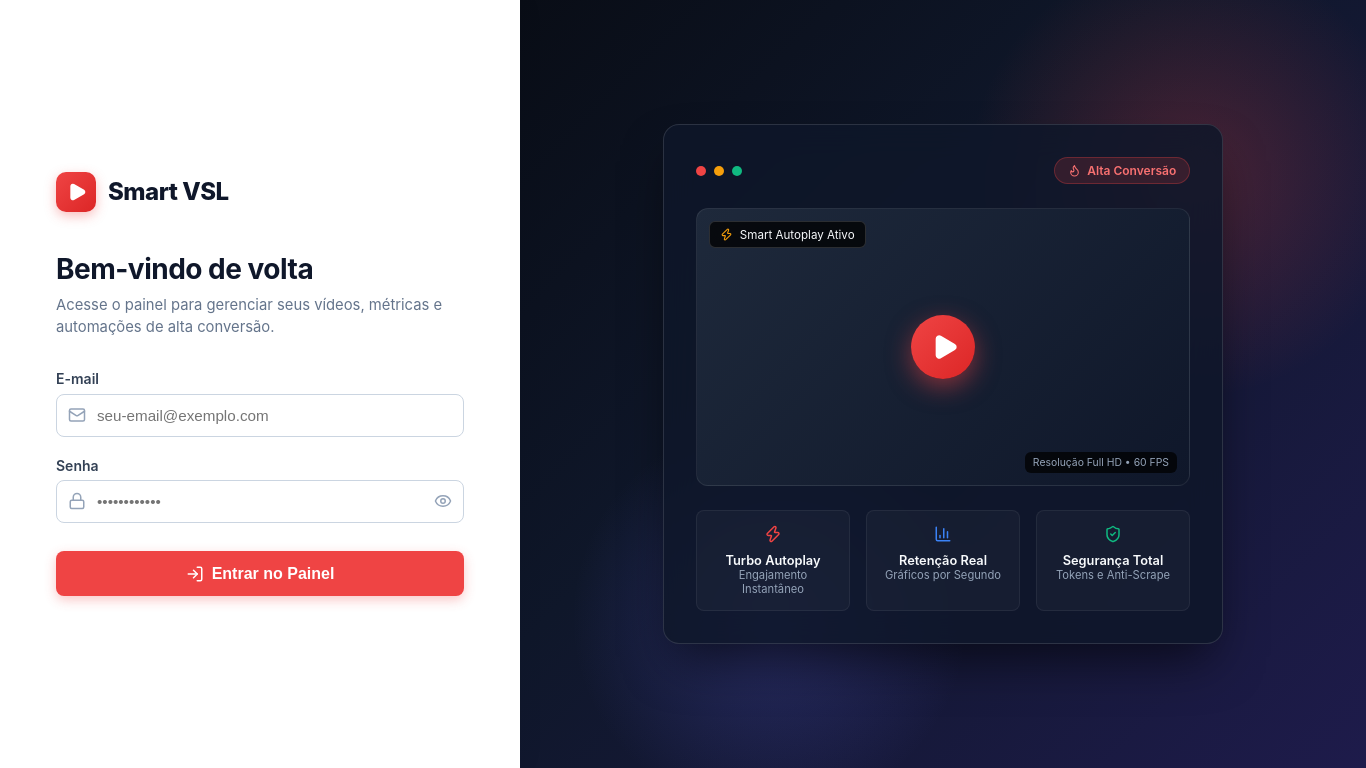
Test: LoginView Component › exibe mensagem de erro quando a API rejeita as credenciais
In the field with test id "login-email-input": (260,415) top-left (56, 394), bottom-right (464, 437), type "errado@vturb.com"
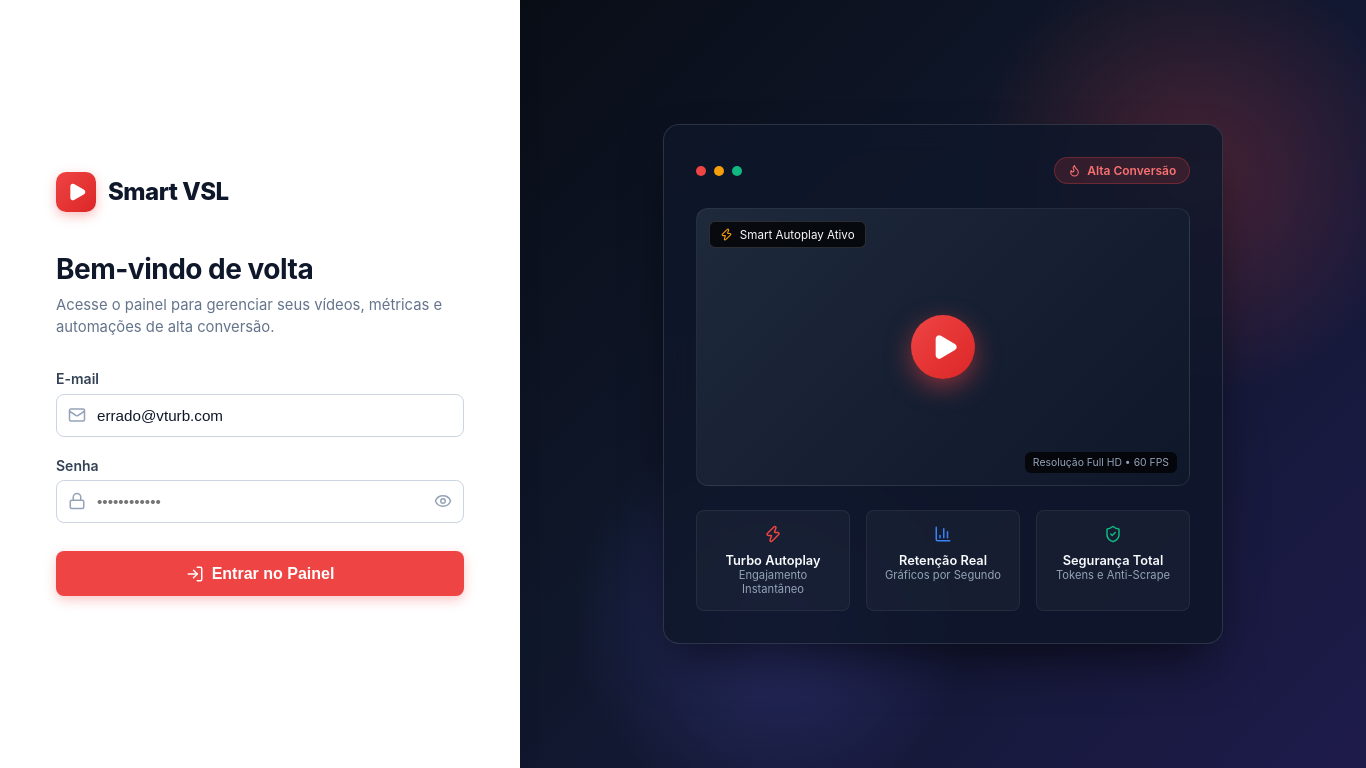
In the password field with test id "login-password-input": (260,502) top-left (56, 480), bottom-right (464, 523), type "senha123"
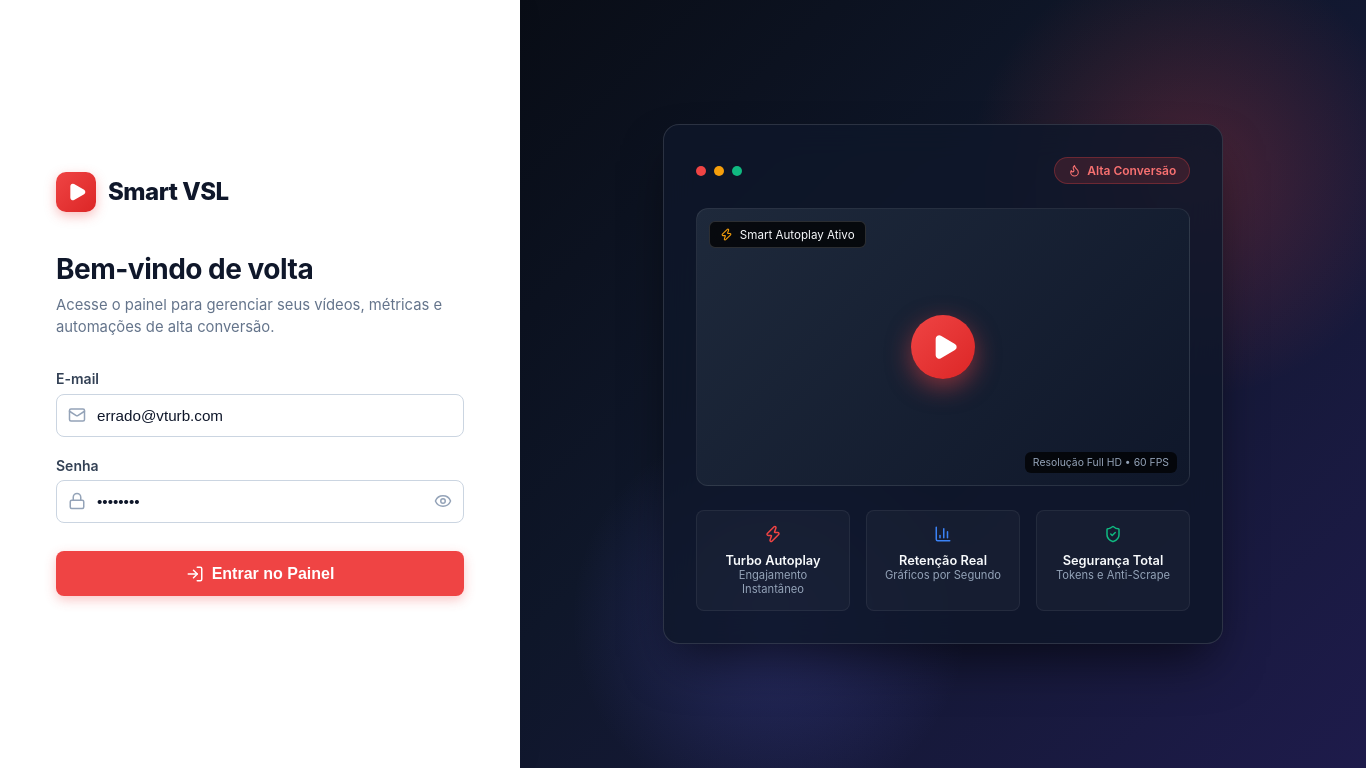
Click the button with test id "login-submit-btn": (260,574) top-left (56, 551), bottom-right (464, 596)
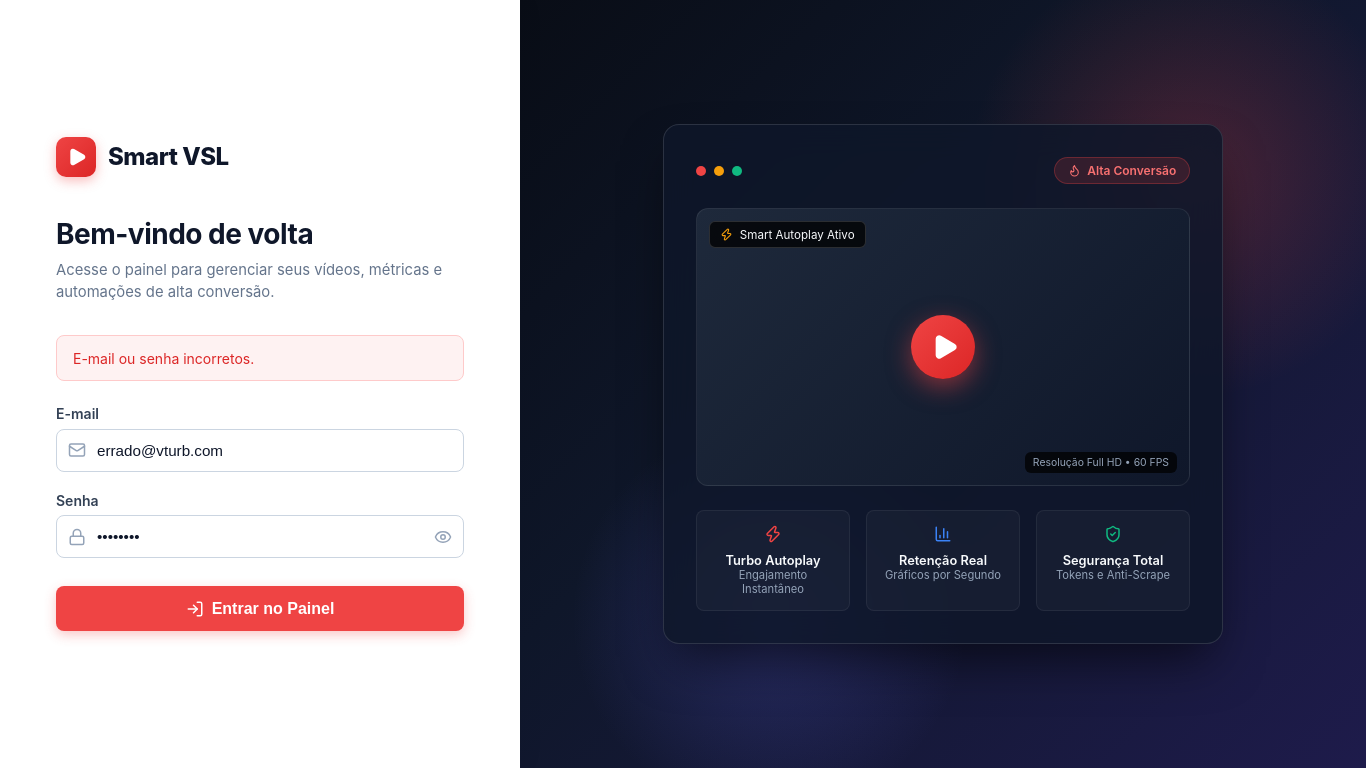
Check: the element with test id "login-error-message" reads "E-mail ou senha incorretos.", box top-left (73, 350), bottom-right (254, 367)
